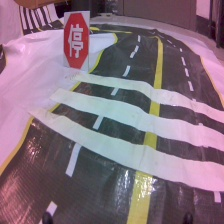stop: (62, 10, 92, 73)
